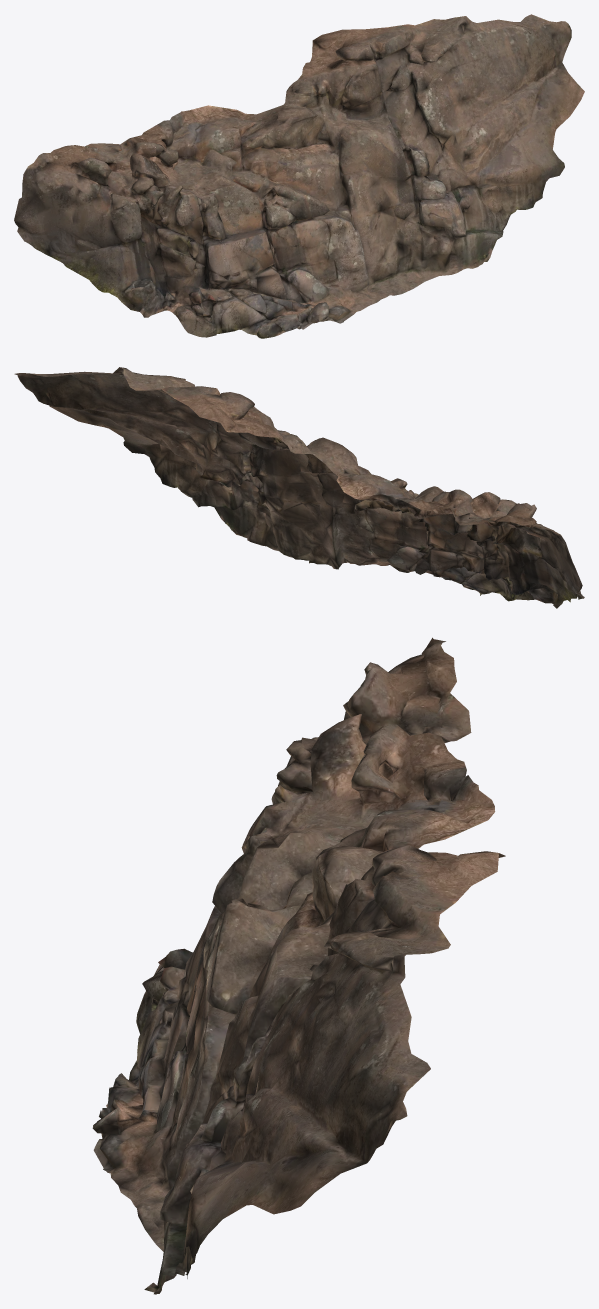
Rendered from namaqualand_cliff_02.glb.
3 views of the same model, one above another, from view 1: azimuth 30°, elevation 25°; view 2: azimuth 150°, elevation 25°; view 3: azimuth 270°, elevation 25° (orthographic). The views are drawn at different scales.
Parts seen in each view (by area): view 1: drone_rock_02_LOD0; view 2: drone_rock_02_LOD0; view 3: drone_rock_02_LOD0.
Part boxes in pixels (<box>): drone_rock_02_LOD0: <box>14,14,584,338</box>; drone_rock_02_LOD0: <box>14,367,584,608</box>; drone_rock_02_LOD0: <box>92,637,505,1294</box>.
Bounding box in the file's own units: 20.23 × 7.17 × 6.58.
1 material, 1 textured.
